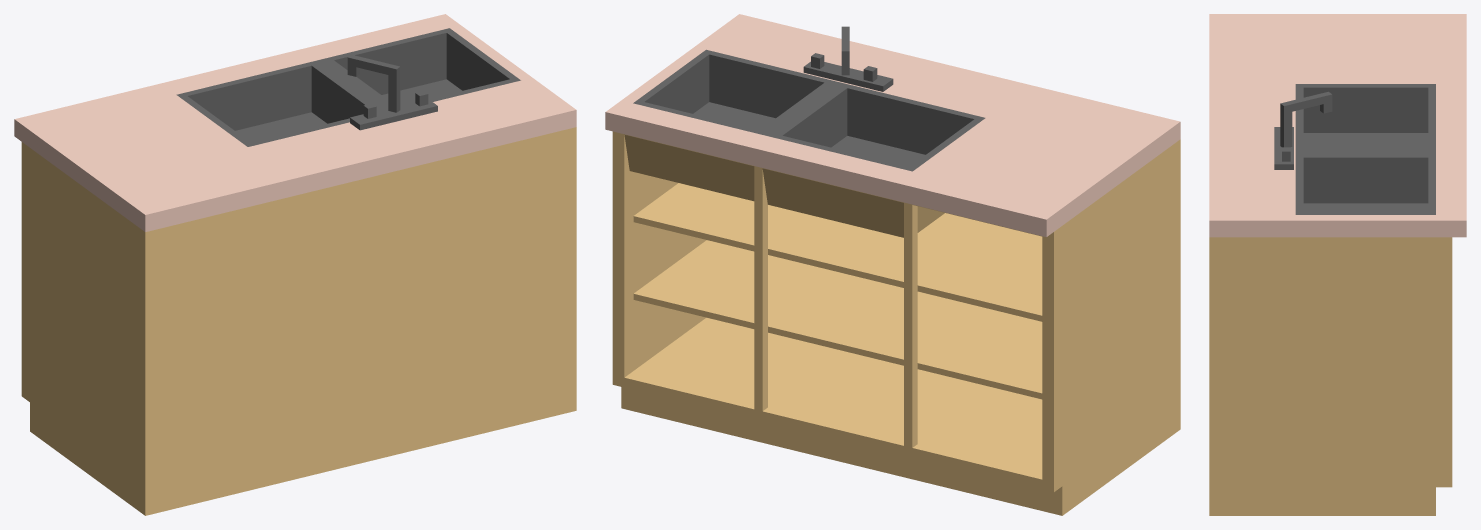
The model's file is Kitchen_CounterSink.FBX.
3 renders of one model, left to right at view 1: azimuth 30°, elevation 25°; view 2: azimuth 150°, elevation 25°; view 3: azimuth 270°, elevation 25°, orthographic. The views are drawn at different scales.
Visible parts, largest first — view 1: Kitchen_CounterSink_001; view 2: Kitchen_CounterSink_001; view 3: Kitchen_CounterSink_001.
Boxes of the visible parts, x1,y1,x2,y2 form: Kitchen_CounterSink_001: (14,14,576,515); Kitchen_CounterSink_001: (605,14,1180,515); Kitchen_CounterSink_001: (1209,14,1466,515).
Bounding box in the file's own units: 1.5 × 1.16 × 0.789.
